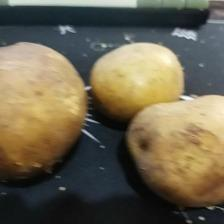Damaged potato: (1, 40, 90, 184), (124, 94, 224, 212)
Potato: (89, 42, 189, 122)
